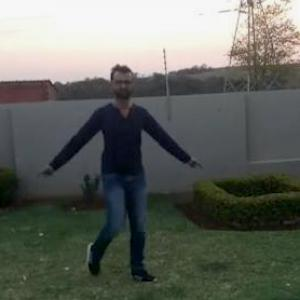land: (62, 74, 182, 250)
